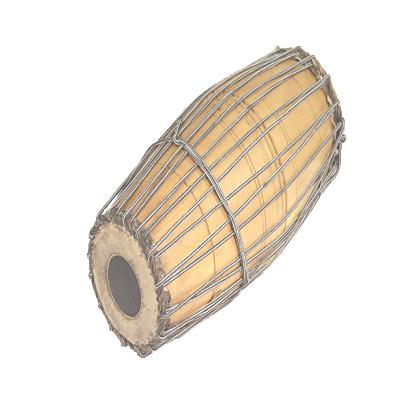Mridangam: (67, 24, 356, 370)
